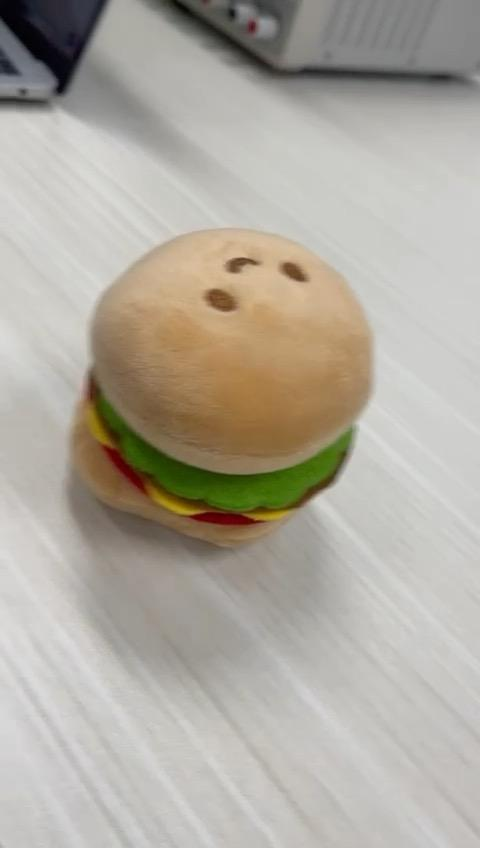hamburger: (71, 229, 377, 547)
